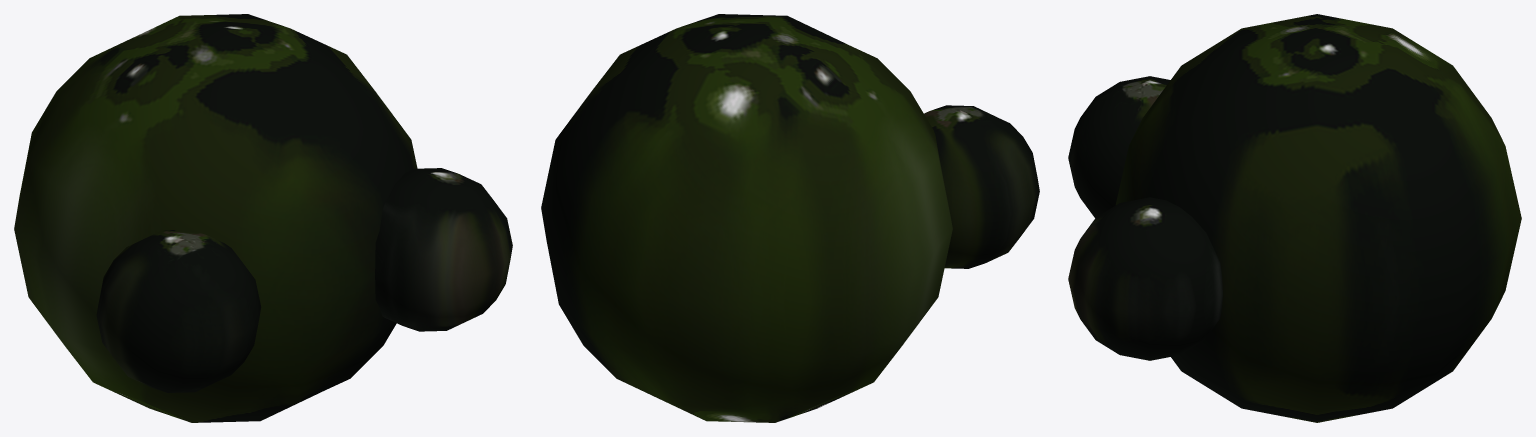
The model's file is GORBINO.glb.
3 renders of one model, left to right at view 1: azimuth 30°, elevation 25°; view 2: azimuth 150°, elevation 25°; view 3: azimuth 270°, elevation 25°, orthographic.
Visible parts, largest first — view 1: GORBINO; view 2: GORBINO; view 3: GORBINO.
Part boxes in pixels (box(x1,y1,x2,y2)): GORBINO: box(14, 14, 512, 422); GORBINO: box(541, 14, 1039, 422); GORBINO: box(1068, 14, 1521, 422).
Size of the model in its own units: 0.5656 by 0.5139 by 0.5697.
3 materials, 3 textured.
